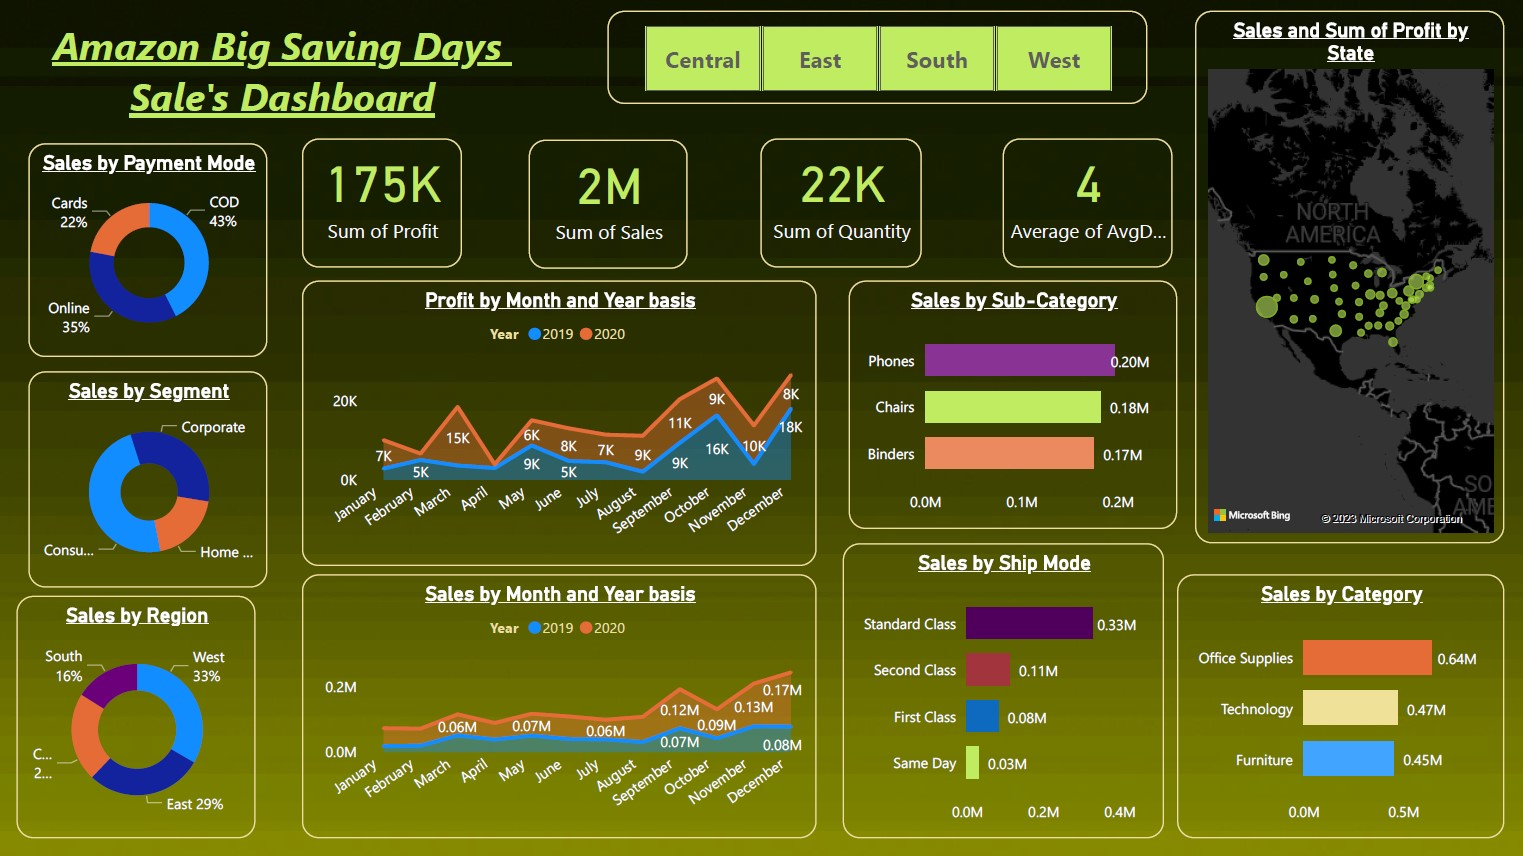

What the dashboard file says about the page in this screenshot:
{"tool":"powerbi","page":{"name":"Page 1","canvas":[1280,720],"ordinal":0},"visuals":[{"type":"clusteredBarChart","title":"Sales by Category","fields":{"Category":["SuperStore_Sales_Dataset.Category"],"Y":["Sum(SuperStore_Sales_Dataset.Sales)"]},"box":[986.6,483,274.4,220.9],"z":0},{"type":"clusteredBarChart","title":"Sales by Sub-Category","fields":{"Category":["SuperStore_Sales_Dataset.Sub-Category"],"Y":["Sum(SuperStore_Sales_Dataset.Sales)"]},"box":[712.2,237.4,274.4,207.2],"z":1000},{"type":"clusteredBarChart","title":"Sales by Ship Mode","fields":{"Y":["Sum(SuperStore_Sales_Dataset.Sales)"],"Category":["SuperStore_Sales_Dataset.Ship Mode"]},"box":[706.7,456.9,269,247],"z":2000},{"type":"stackedAreaChart","title":"Sales by Month and Year basis","fields":{"Y":["Sum(SuperStore_Sales_Dataset.Sales)"],"Category":["SuperStore_Sales_Dataset.Order Date.Variation.Date Hierarchy.Month"],"Series":["SuperStore_Sales_Dataset.Order Date.Variation.Date Hierarchy.Year"]},"box":[253.9,483,430.9,220.9],"z":3000},{"type":"stackedAreaChart","title":"Profit by Month and Year basis","fields":{"Category":["SuperStore_Sales_Dataset.Order Date.Variation.Date Hierarchy.Month"],"Series":["SuperStore_Sales_Dataset.Order Date.Variation.Date Hierarchy.Year"],"Y":["Sum(SuperStore_Sales_Dataset.Profit)"]},"box":[253.9,237.4,430.9,238.8],"z":4000},{"type":"map","title":"Sales and Sum of Profit by State","fields":{"Category":["SuperStore_Sales_Dataset.State"],"Size":["Sum(SuperStore_Sales_Dataset.Sales)"]},"box":[1001.7,11,259.3,446],"z":5000},{"type":"donutChart","title":"Sales by Segment","fields":{"Category":["SuperStore_Sales_Dataset.Segment"],"Y":["Sum(SuperStore_Sales_Dataset.Sales)"]},"box":[24.7,312.9,200.3,181.1],"z":6000},{"type":"donutChart","title":"Sales by Region","fields":{"Y":["Sum(SuperStore_Sales_Dataset.Sales)"],"Category":["SuperStore_Sales_Dataset.Region"]},"box":[15.1,500.9,200.3,203.1],"z":7000},{"type":"donutChart","title":"Sales by Payment Mode","fields":{"Y":["Sum(SuperStore_Sales_Dataset.Sales)"],"Category":["SuperStore_Sales_Dataset.Payment Mode"]},"box":[24.7,122.1,200.3,178.4],"z":8000},{"type":"slicer","fields":{"Values":["SuperStore_Sales_Dataset.Region"]},"box":[510.5,11,451.5,78.2],"z":9000},{"type":"textbox","box":[24.4,11.5,426.9,107.7],"z":10000},{"type":"card","fields":{"Values":["Sum(SuperStore_Sales_Dataset.Profit)"]},"box":[253.8,117.9,134.6,107.7],"z":11000},{"type":"card","fields":{"Values":["Sum(SuperStore_Sales_Dataset.Sales)"]},"box":[443.6,119.2,133.3,107.7],"z":12000},{"type":"card","fields":{"Values":["Sum(SuperStore_Sales_Dataset.Quantity)"]},"box":[638.5,117.9,134.6,107.7],"z":13000},{"type":"card","fields":{"Values":["Avg(SuperStore_Sales_Dataset.AvgDelivery)"]},"box":[841,117.9,142.3,107.7],"z":14000}]}

Visuals, with their boxes in screenshot pixels (x1, y1, x2, y2), scaled from the page's 1280x720 canvas onto the 1523x856 screenshot:
"Sales by Category" clusteredBarChart: box=[1174, 574, 1500, 837]
"Sales by Sub-Category" clusteredBarChart: box=[847, 282, 1174, 529]
"Sales by Ship Mode" clusteredBarChart: box=[841, 543, 1161, 837]
"Sales by Month and Year basis" stackedAreaChart: box=[302, 574, 815, 837]
"Profit by Month and Year basis" stackedAreaChart: box=[302, 282, 815, 566]
"Sales and Sum of Profit by State" map: box=[1192, 13, 1500, 543]
"Sales by Segment" donutChart: box=[29, 372, 268, 587]
"Sales by Region" donutChart: box=[18, 596, 256, 837]
"Sales by Payment Mode" donutChart: box=[29, 145, 268, 357]
slicer - SuperStore_Sales_Dataset.Region: box=[607, 13, 1145, 106]
textbox: box=[29, 14, 537, 142]
card - Sum(SuperStore_Sales_Dataset.Profit): box=[302, 140, 462, 268]
card - Sum(SuperStore_Sales_Dataset.Sales): box=[528, 142, 686, 270]
card - Sum(SuperStore_Sales_Dataset.Quantity): box=[760, 140, 920, 268]
card - Avg(SuperStore_Sales_Dataset.AvgDelivery): box=[1001, 140, 1170, 268]
